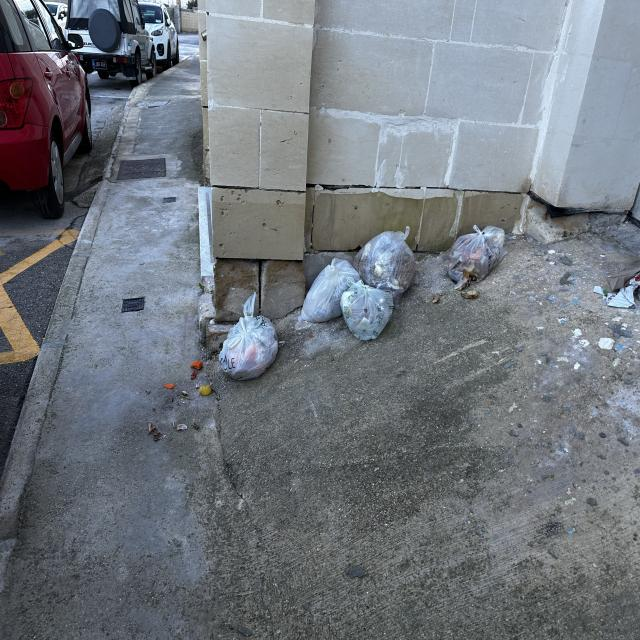Organic Waste -White Bags-: (297, 226, 415, 341), (219, 291, 278, 381), (448, 225, 508, 290)
